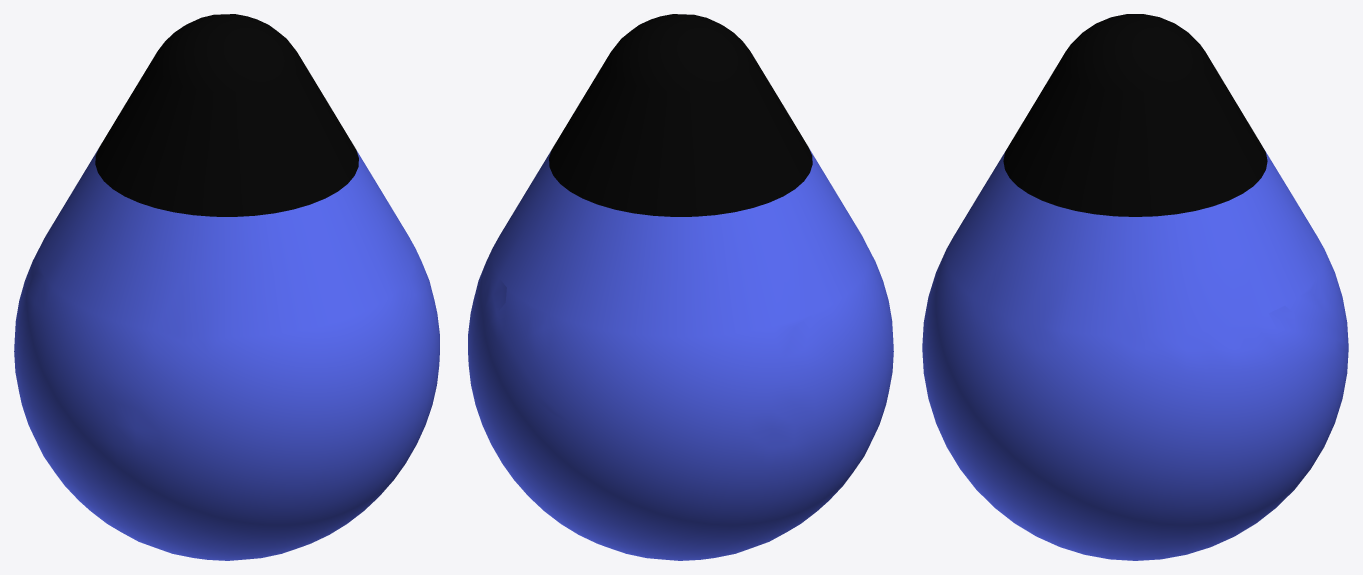
The model's file is A-2-Blue.dae.
3 renders of one model, left to right at view 1: azimuth 30°, elevation 25°; view 2: azimuth 150°, elevation 25°; view 3: azimuth 270°, elevation 25°, orthographic.
Visible parts, largest first — view 1: A-2-Blue; view 2: A-2-Blue; view 3: A-2-Blue.
Boxes of the visible parts, left/top/right/bottom form: A-2-Blue: left=14, top=14, right=439, bottom=560; A-2-Blue: left=468, top=14, right=893, bottom=560; A-2-Blue: left=922, top=14, right=1348, bottom=560.
Size of the model in its own units: 14.49 by 14.5 by 19.47.
